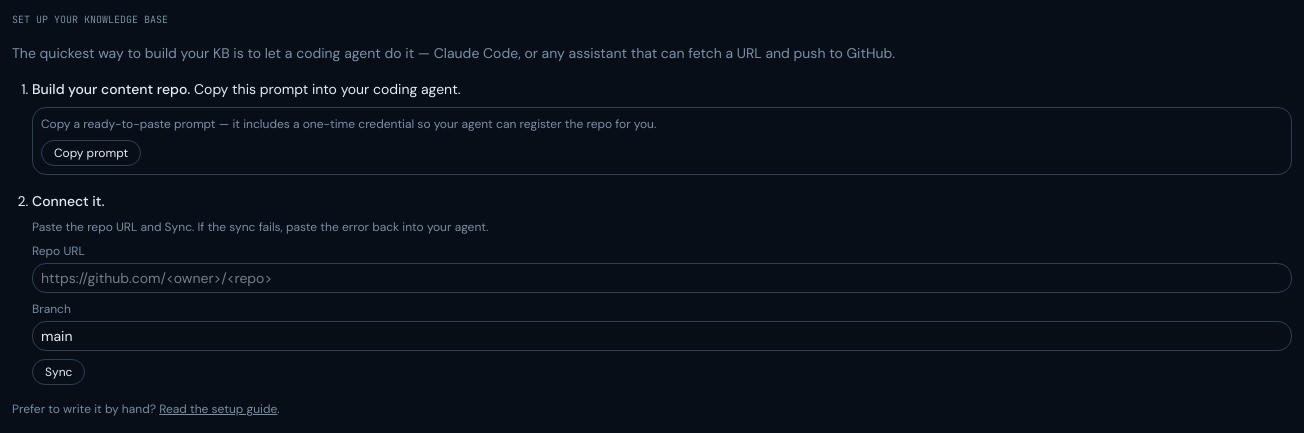
Test case: KbSetupSteps › shows failure feedback when the token mint fails
Click the button "Copy prompt".
click(91, 153)  # box [41,140,141,166]
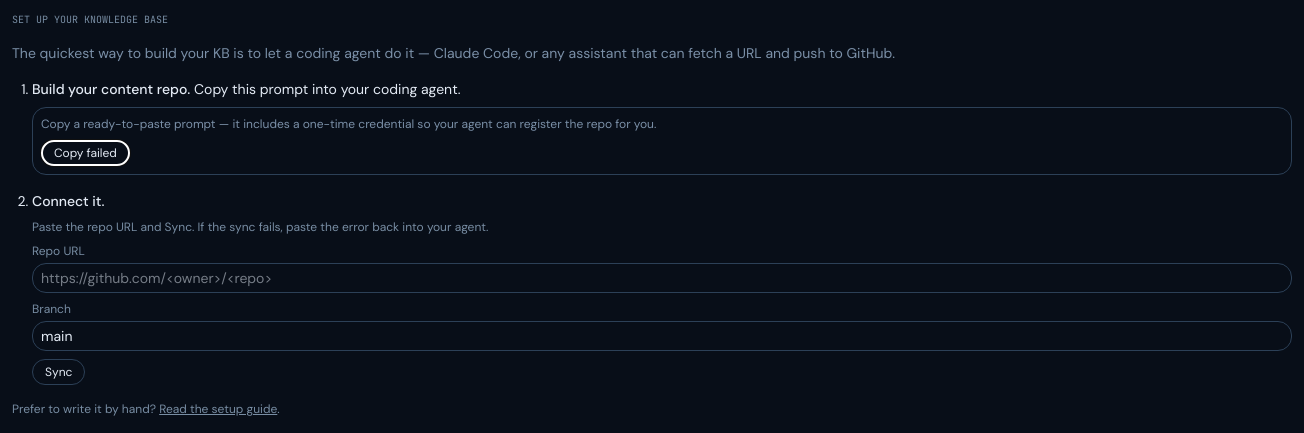
Check: the button "Copy failed" is shown, box [41,140,130,166]
